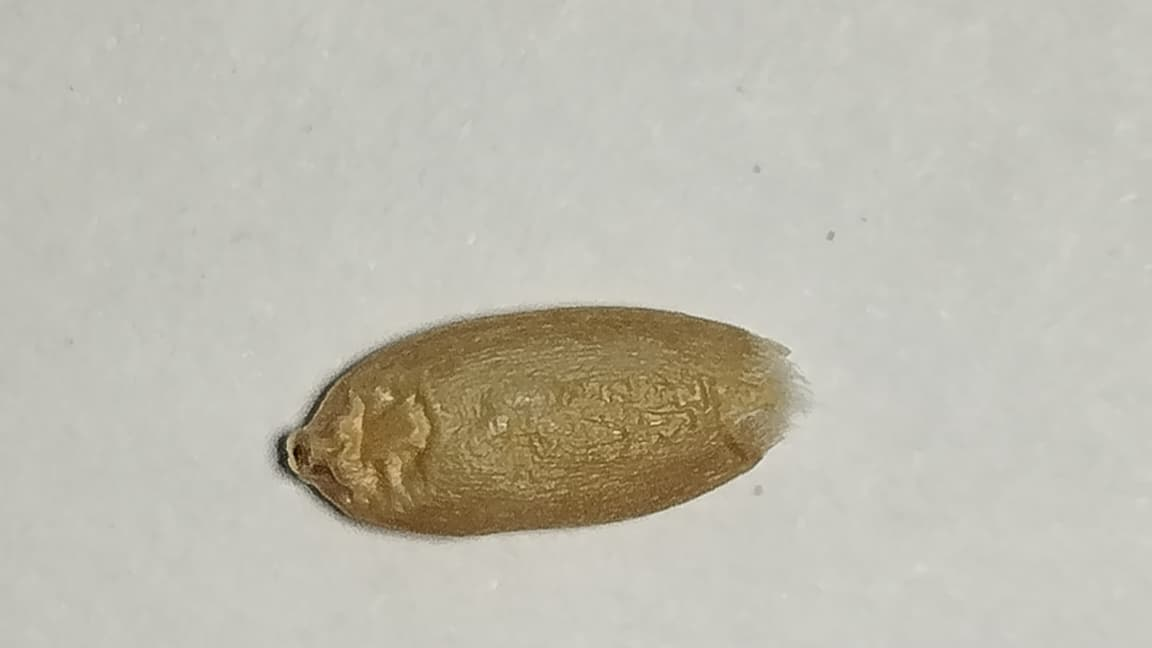healthy: (286, 306, 792, 534)
